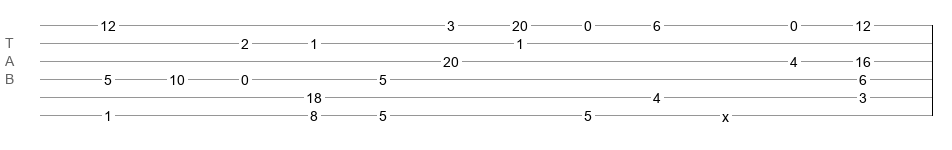0: (241, 72, 249, 82), (584, 18, 592, 28), (790, 18, 798, 28)
1: (104, 108, 112, 118), (310, 36, 318, 46), (516, 36, 524, 46)
10: (169, 72, 185, 82)
12: (100, 18, 116, 28), (855, 18, 871, 28)
16: (855, 54, 871, 64)
18: (306, 90, 322, 100)
2: (241, 36, 249, 46)
20: (443, 54, 459, 64), (512, 18, 528, 28)
3: (447, 18, 455, 28), (859, 90, 867, 100)
4: (653, 90, 661, 100), (790, 54, 798, 64)
5: (104, 72, 112, 82), (379, 108, 387, 118), (379, 72, 387, 82), (584, 108, 592, 118)
6: (653, 18, 661, 28), (859, 72, 867, 82)
8: (310, 108, 318, 118)
x: (722, 109, 729, 117)
